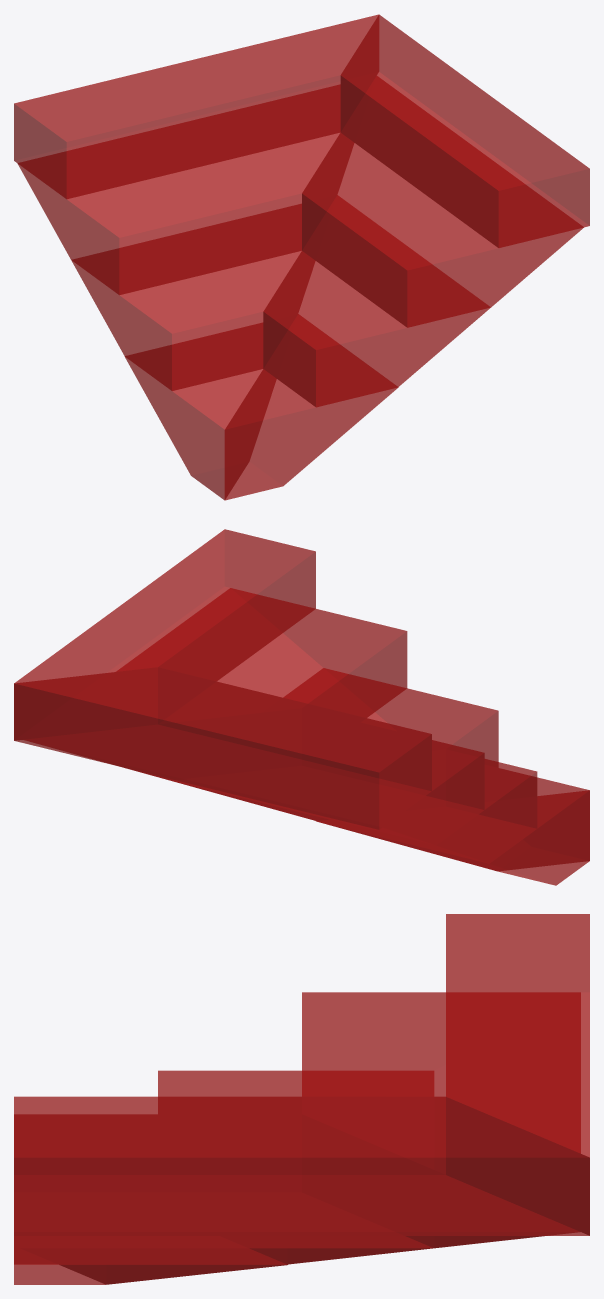
Rendered from SM_Bld_Step_01_Corner_02_Collision.fbx.
The picture shows the model from 3 angles, top to bottom: view 1: azimuth 30°, elevation 25°; view 2: azimuth 150°, elevation 25°; view 3: azimuth 270°, elevation 25°; orthographic projection. The views are drawn at different scales.
Visible parts, largest first — view 1: SM_Bld_Step_01_Corner_02_Collision; view 2: SM_Bld_Step_01_Corner_02_Collision; view 3: SM_Bld_Step_01_Corner_02_Collision.
Part boxes in pixels (left/top/right/bottom): SM_Bld_Step_01_Corner_02_Collision: left=14, top=14, right=589, bottom=500; SM_Bld_Step_01_Corner_02_Collision: left=14, top=529, right=589, bottom=885; SM_Bld_Step_01_Corner_02_Collision: left=14, top=914, right=589, bottom=1284.
Bounding box in the file's own units: 250 × 159 × 250.
